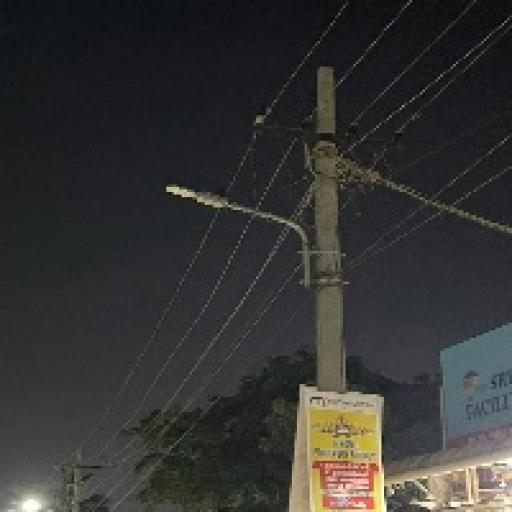Not Working: (158, 173, 234, 218)
